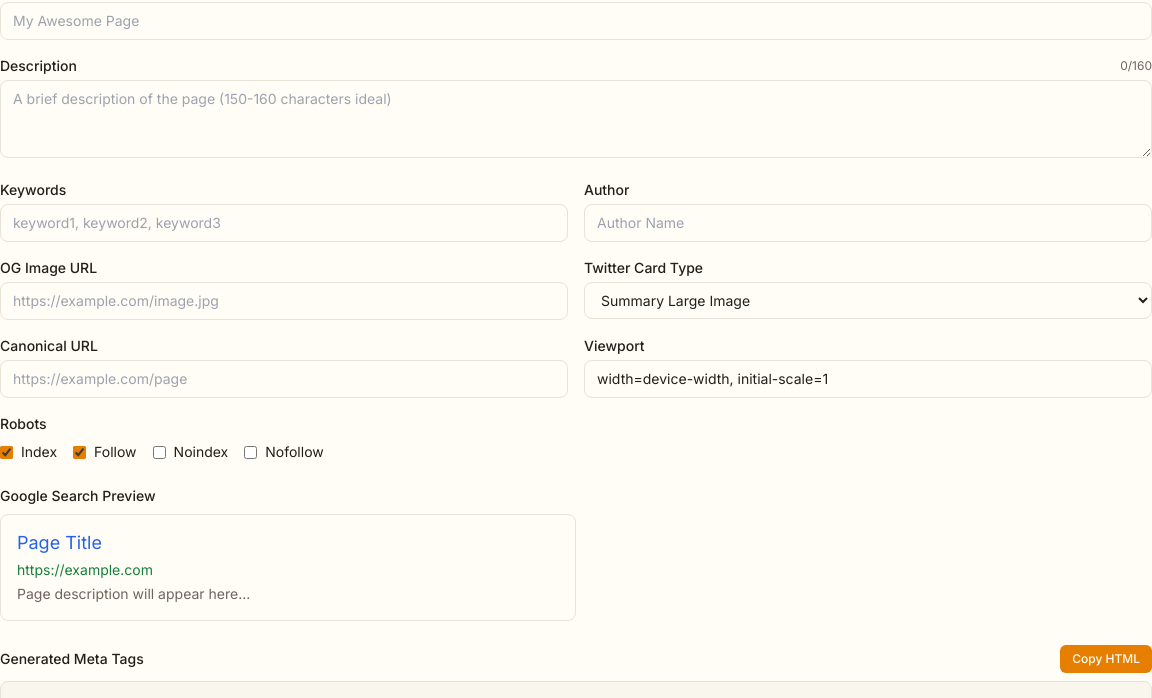
Scenario: MetaTagGenerator › generates description meta tag
The width and height of the screenshot is (1152, 698).
Step 1. Type "A test description" into the text box labelled "Description" → (576, 119), box [0,80,1151,158]
(page scrolled)
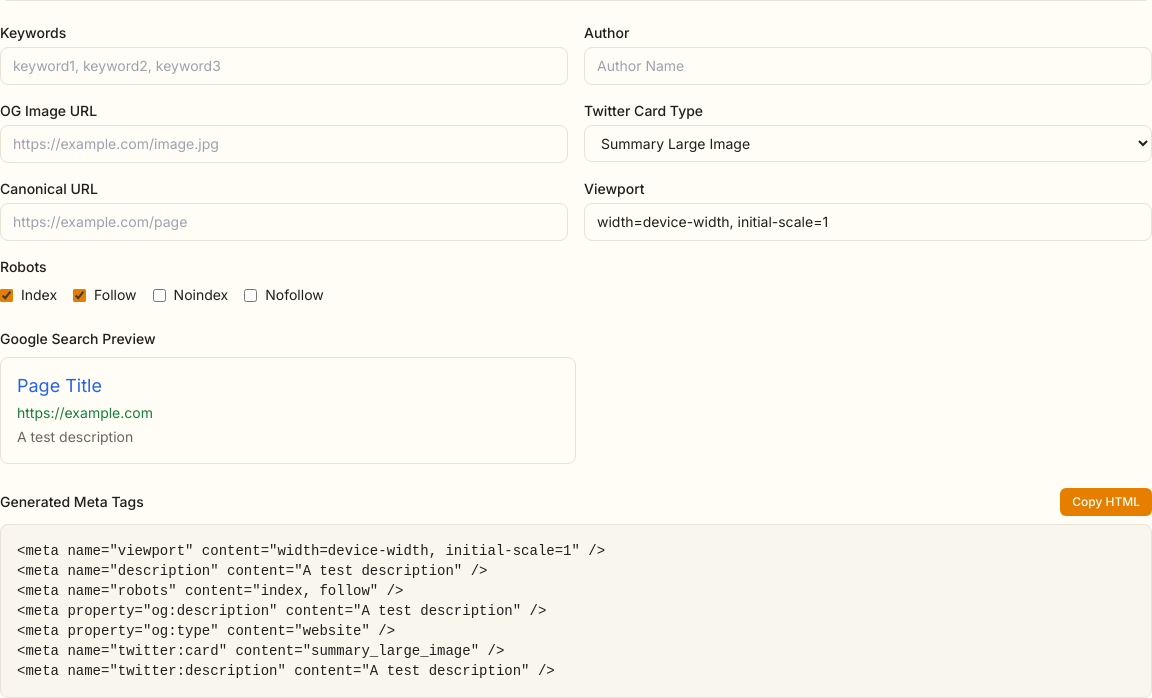
Expected: the text "name=\"description\" content=\"A test description\"" is shown, [17,543,605,679]
